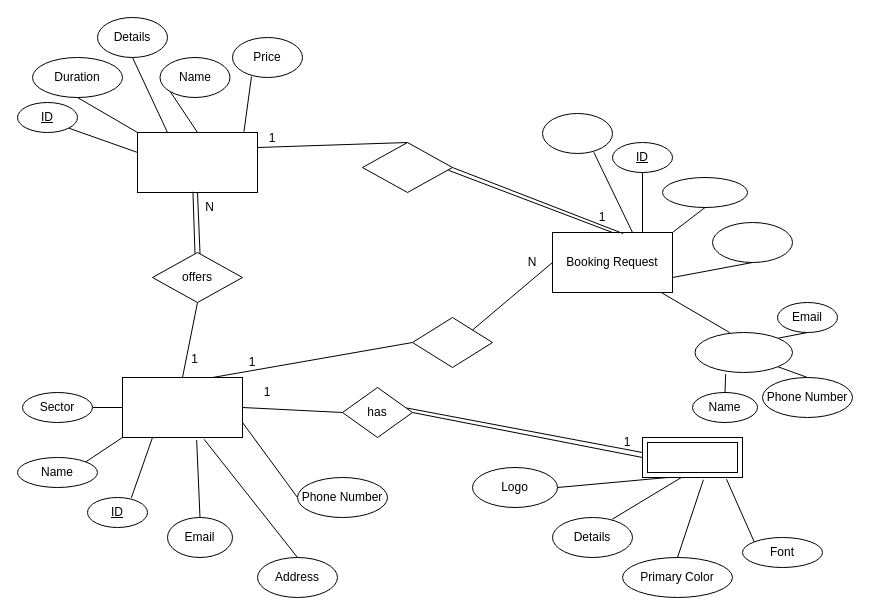
This 870x615 diagram has some shape labels left out. The shapes that lost their labels are listed below. From the top down, each one's centre as x and y in pixels, then its label:
At (x=577, y=133): "Message".
At (x=197, y=162): "Service".
At (x=407, y=167): "creates".
At (x=705, y=192): "Date".
At (x=752, y=242): "Time Period".
At (x=452, y=342): "manages".
At (x=743, y=352): "User".
At (x=182, y=407): "Business".
At (x=692, y=457): "Landing Page".
